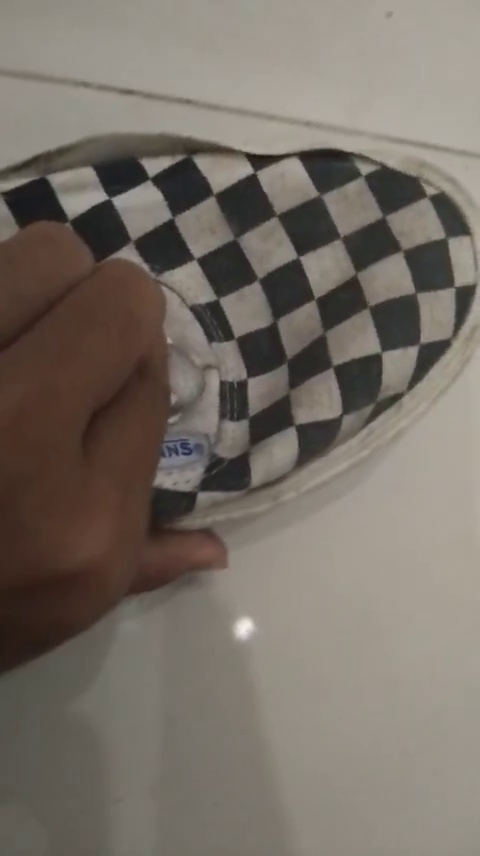bonding: (5, 127, 247, 178)
